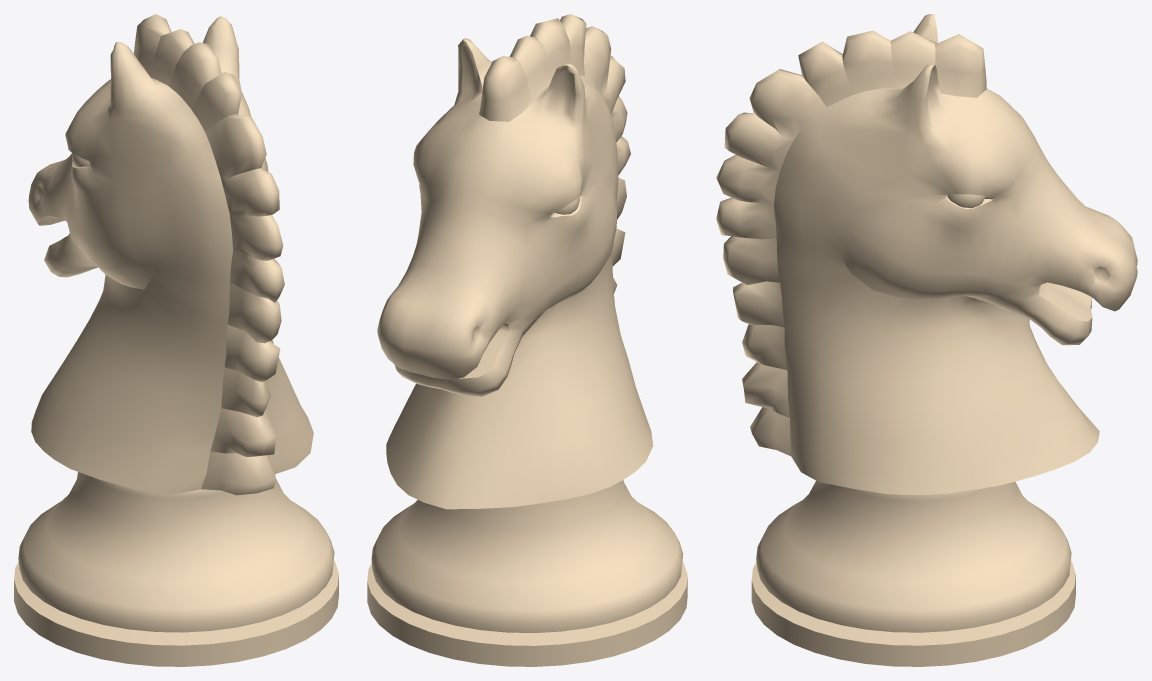
File: Optmized Horse.glb
3 views of the same model, side by side, from view 1: azimuth 30°, elevation 25°; view 2: azimuth 150°, elevation 25°; view 3: azimuth 270°, elevation 25° (orthographic).
Visible parts, largest first — view 1: Horse; view 2: Horse; view 3: Horse.
Boxes of the visible parts, box(x1,y1,x2,y2) form: Horse: box(14, 14, 338, 666); Horse: box(367, 14, 687, 666); Horse: box(716, 14, 1137, 666).
Size of the model in its own units: 1.09 by 2.11 by 1.41.
